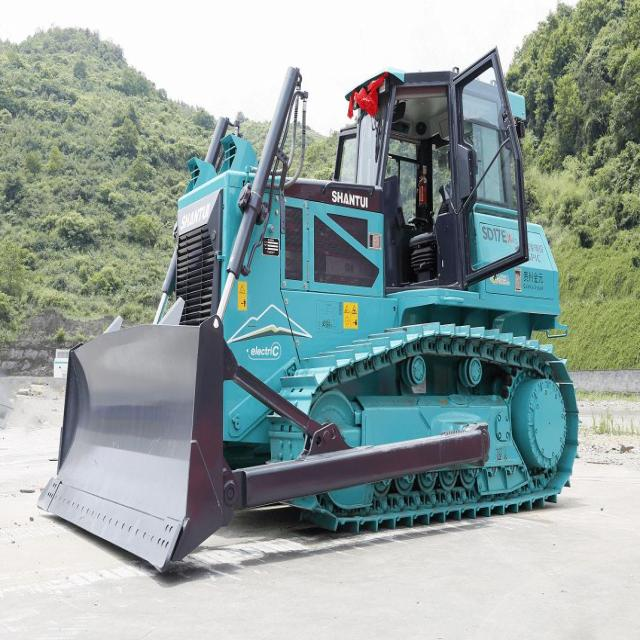Bulldozer: (28, 27, 582, 574)
